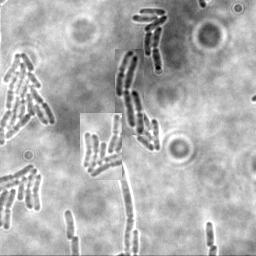Dividing: (114, 161, 133, 255), (204, 221, 215, 248)
Microcolony: (1, 51, 56, 147), (1, 162, 44, 231), (80, 113, 122, 180), (115, 49, 144, 135), (130, 8, 167, 72), (124, 106, 160, 153), (63, 208, 74, 240)
